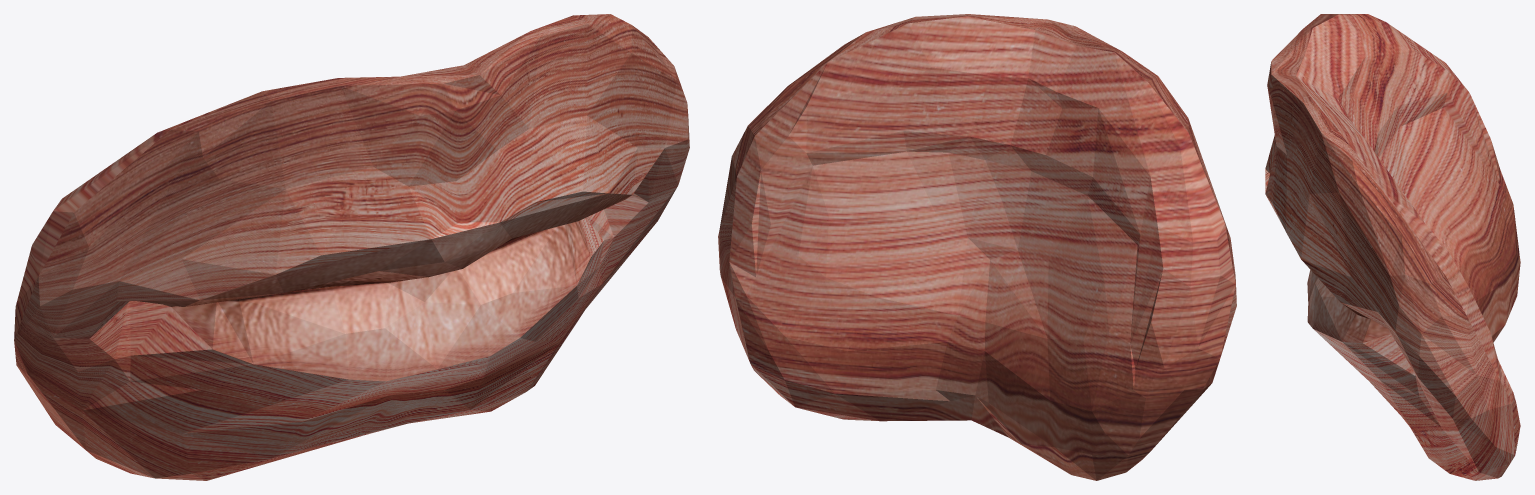
File: Orbicularis_Oris.obj
3 views of the same model, side by side, from view 1: azimuth 30°, elevation 25°; view 2: azimuth 150°, elevation 25°; view 3: azimuth 270°, elevation 25° (orthographic). The views are drawn at different scales.
Parts seen in each view (by area): view 1: Musculos_Cabeza_1:Orbicularis_Oris1; view 2: Musculos_Cabeza_1:Orbicularis_Oris1; view 3: Musculos_Cabeza_1:Orbicularis_Oris1.
Part boxes in pixels (<box>): Musculos_Cabeza_1:Orbicularis_Oris1: <box>14,14,689,480</box>; Musculos_Cabeza_1:Orbicularis_Oris1: <box>718,14,1236,480</box>; Musculos_Cabeza_1:Orbicularis_Oris1: <box>1265,14,1520,480</box>.
Bounding box in the file's own units: 0.2913 × 0.1952 × 0.1287.
1 material, 1 textured.
